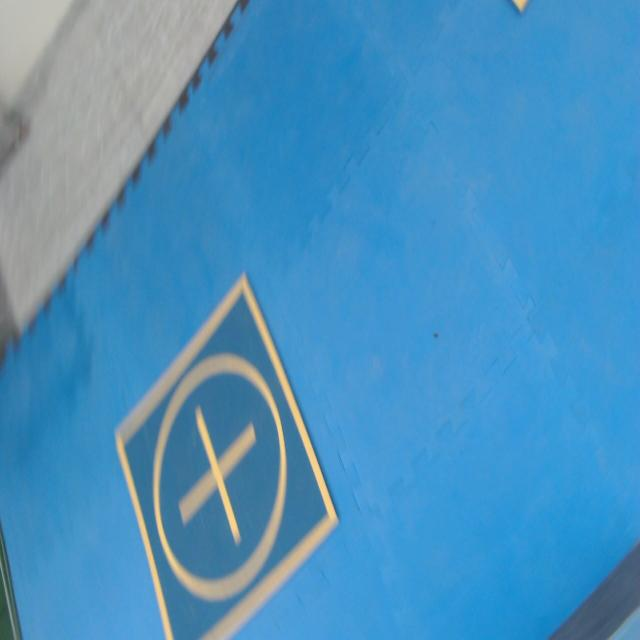base_pouso: (113, 269, 339, 639)
